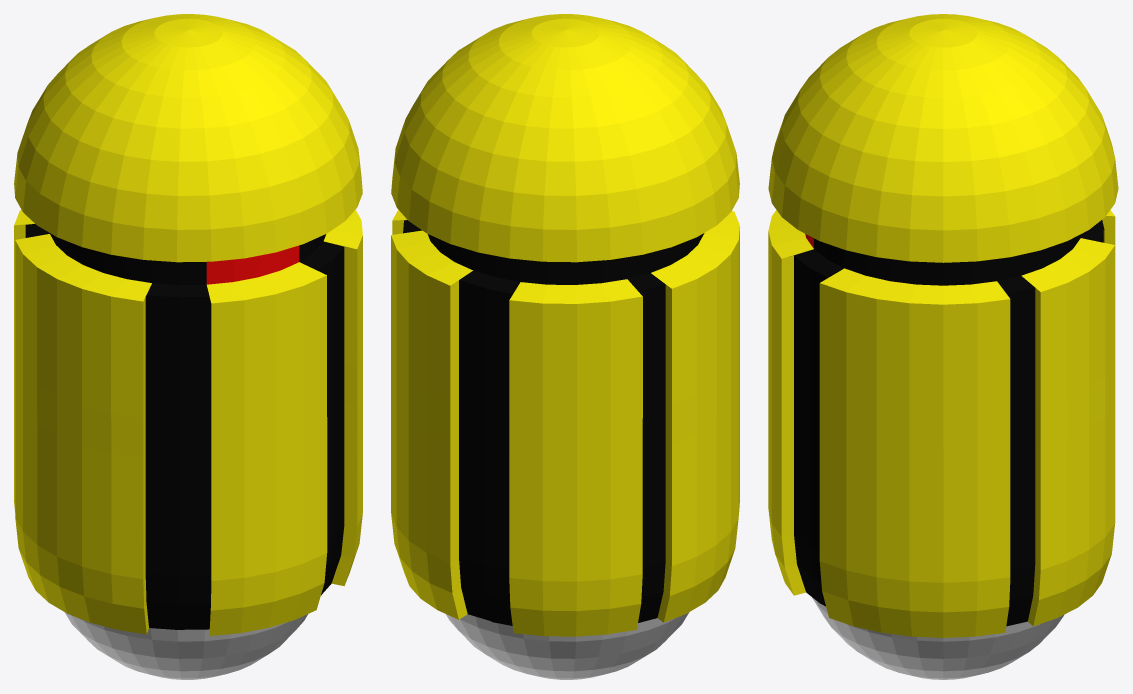
Rendered from PillEnemyVariant2.glb.
3 views of the same model, side by side, from view 1: azimuth 30°, elevation 25°; view 2: azimuth 150°, elevation 25°; view 3: azimuth 270°, elevation 25° (orthographic).
Visible parts, largest first — view 1: PillBodyVariant2; view 2: PillBodyVariant2; view 3: PillBodyVariant2.
Part boxes in pixels (left/top/right/bottom): PillBodyVariant2: left=14, top=14, right=362, bottom=679; PillBodyVariant2: left=391, top=14, right=739, bottom=679; PillBodyVariant2: left=768, top=14, right=1118, bottom=679.
Bounding box in the file's own units: 1 × 2.01 × 1.
